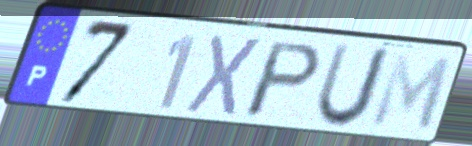1: (157, 32, 200, 110)
7: (54, 17, 139, 108)
M: (366, 51, 455, 136)
P: (239, 39, 326, 121)
U: (311, 41, 397, 132)
X: (181, 31, 267, 121)
